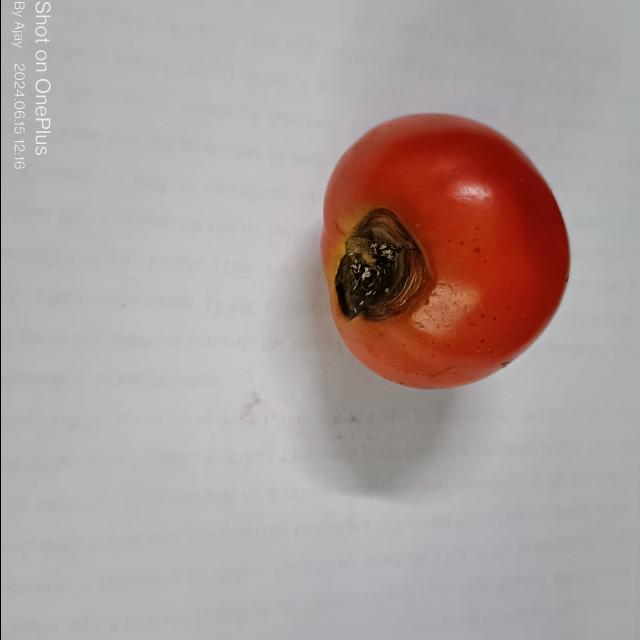Anthrocnose: (334, 211, 430, 317)
